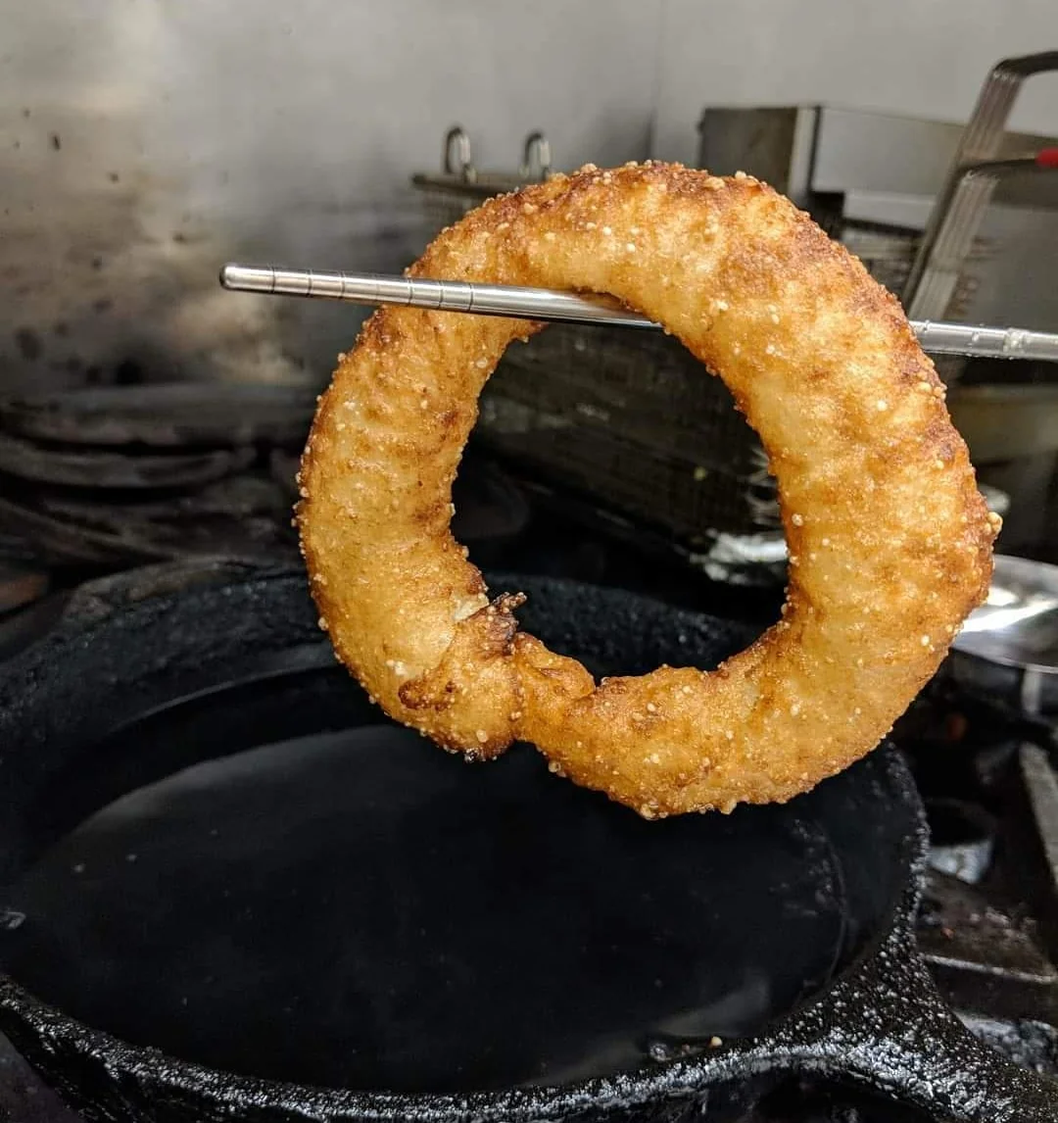sel_roti: (291, 159, 1007, 813)
